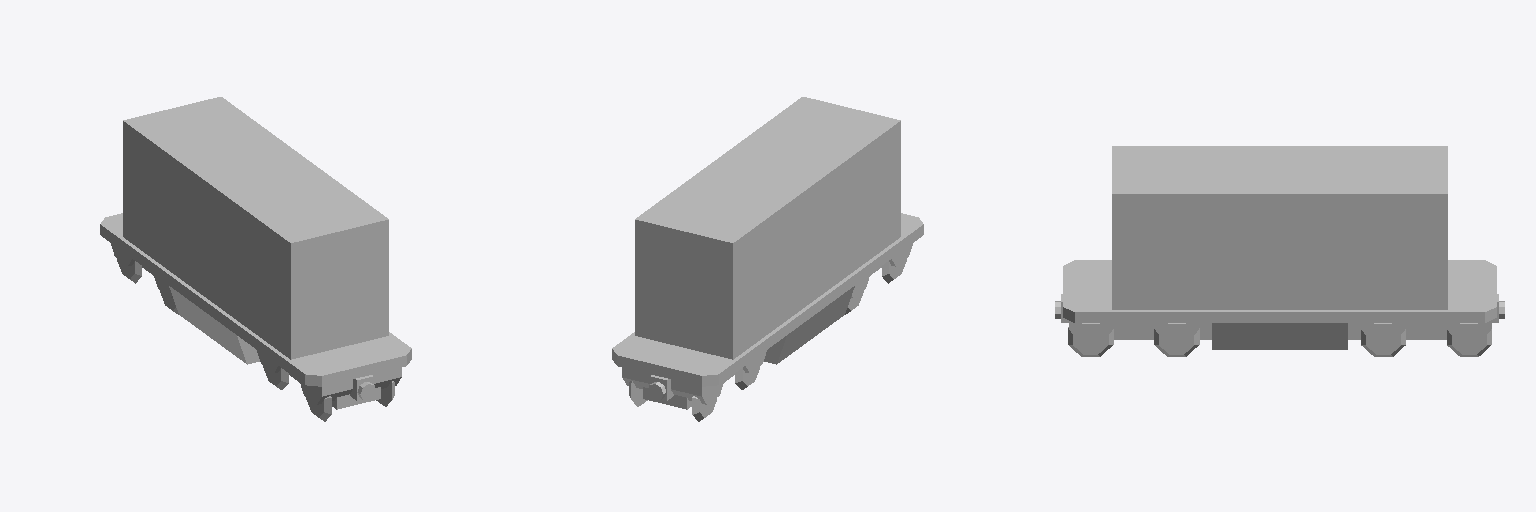
Rendered from SM_Veh_Carriage_Container_03.obj.
3 renders of one model, left to right at view 1: azimuth 30°, elevation 25°; view 2: azimuth 150°, elevation 25°; view 3: azimuth 270°, elevation 25°, orthographic.
Parts seen in each view (by area): view 1: SM_Veh_Carriage_Container_03:Mesh; view 2: SM_Veh_Carriage_Container_03:Mesh; view 3: SM_Veh_Carriage_Container_03:Mesh.
Boxes of the visible parts, x1=… form: SM_Veh_Carriage_Container_03:Mesh: x1=100, y1=97, x2=411, y2=421; SM_Veh_Carriage_Container_03:Mesh: x1=612, y1=97, x2=923, y2=421; SM_Veh_Carriage_Container_03:Mesh: x1=1055, y1=146, x2=1504, y2=356.
Bounding box in the file's own units: 4.5 × 6.94 × 16.45.